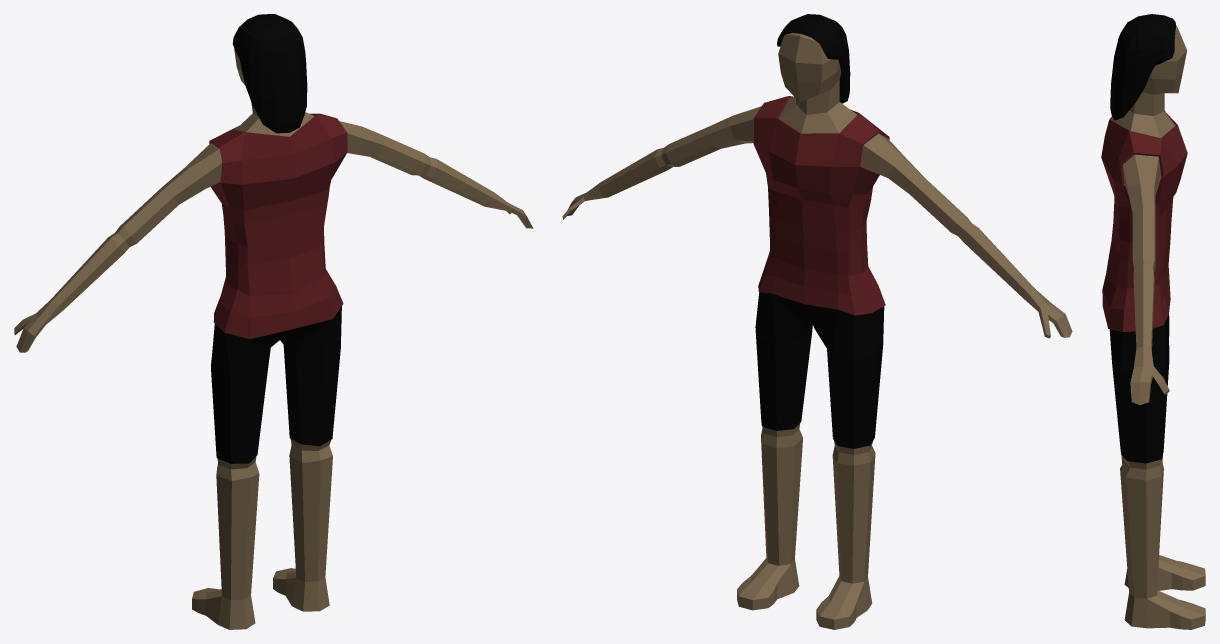
Rendered from Girl.fbx.
3 views of the same model, side by side, from view 1: azimuth 30°, elevation 25°; view 2: azimuth 150°, elevation 25°; view 3: azimuth 270°, elevation 25° (orthographic).
Visible parts, largest first — view 1: Bodey Girl, T-shirt Girl, pants Girl, girl's hair; view 2: Bodey Girl, T-shirt Girl, pants Girl, girl's hair; view 3: Bodey Girl, T-shirt Girl, pants Girl, girl's hair.
Part boxes in pixels (box(x1,y1,x2,y2)): Bodey Girl: box(14, 48, 533, 629); T-shirt Girl: box(209, 113, 347, 339); pants Girl: box(211, 306, 341, 463); girl's hair: box(232, 14, 307, 133); Bodey Girl: box(562, 32, 1072, 629); T-shirt Girl: box(753, 96, 889, 315); pants Girl: box(755, 292, 884, 448); girl's hair: box(777, 14, 850, 103); Bodey Girl: box(1111, 26, 1205, 629); T-shirt Girl: box(1101, 110, 1187, 331); pants Girl: box(1109, 314, 1169, 463); girl's hair: box(1110, 14, 1176, 120).
Size of the model in its own units: 1393 by 1543 by 250.
